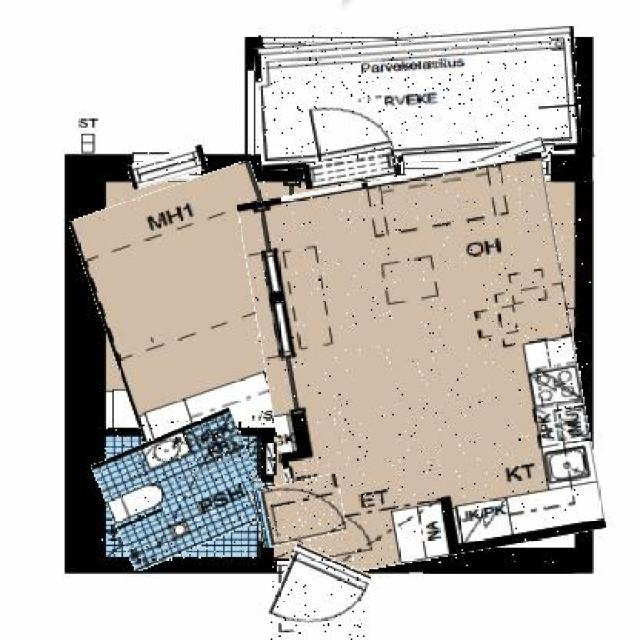door: (269, 551, 365, 640), (255, 477, 343, 545), (311, 100, 391, 165)
window: (404, 143, 548, 194), (305, 153, 397, 184), (128, 150, 208, 184)
zone: (252, 165, 591, 568), (86, 172, 311, 440), (257, 32, 580, 165), (100, 420, 265, 560)
